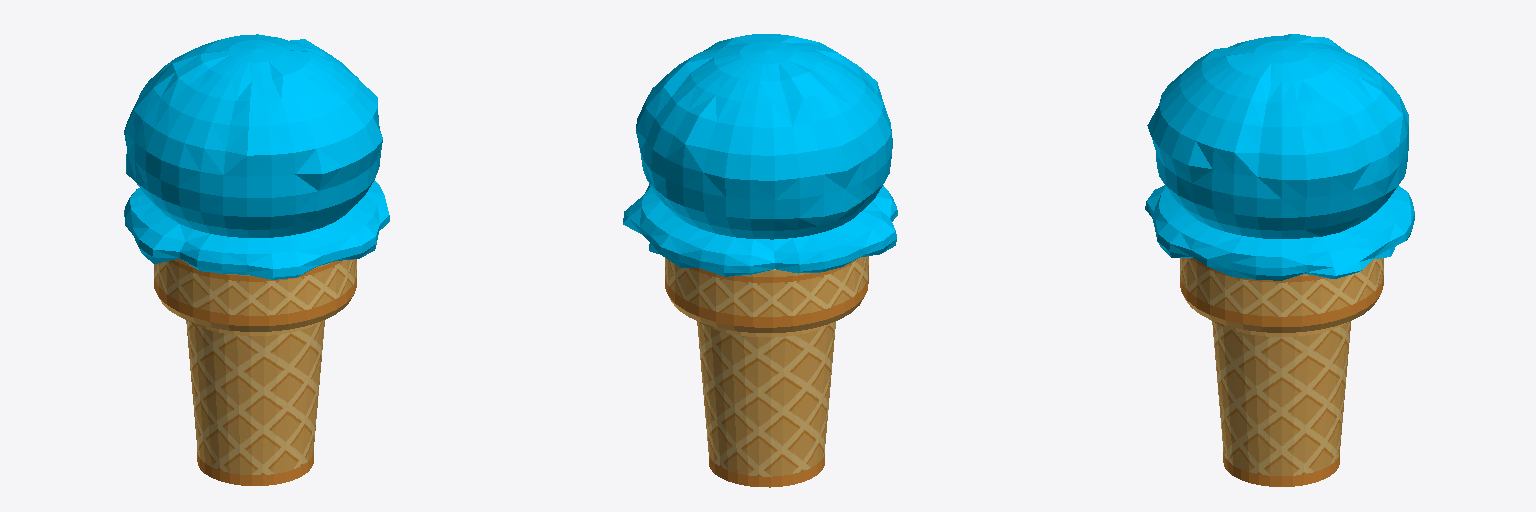
3 renders of one model, left to right at view 1: azimuth 30°, elevation 25°; view 2: azimuth 150°, elevation 25°; view 3: azimuth 270°, elevation 25°, orthographic.
Visible parts, largest first — view 1: Sphere, Cylinder; view 2: Sphere, Cylinder; view 3: Sphere, Cylinder.
Part boxes in pixels (left/top/right/bottom): Sphere: left=124, top=34, right=389, bottom=279; Cylinder: left=154, top=259, right=356, bottom=485; Sphere: left=623, top=34, right=897, bottom=276; Cylinder: left=665, top=256, right=868, bottom=487; Sphere: left=1145, top=34, right=1414, bottom=280; Cylinder: left=1180, top=258, right=1383, bottom=486.
Size of the model in its own units: 3.79 by 6.41 by 3.8.
2 materials, 2 textured.